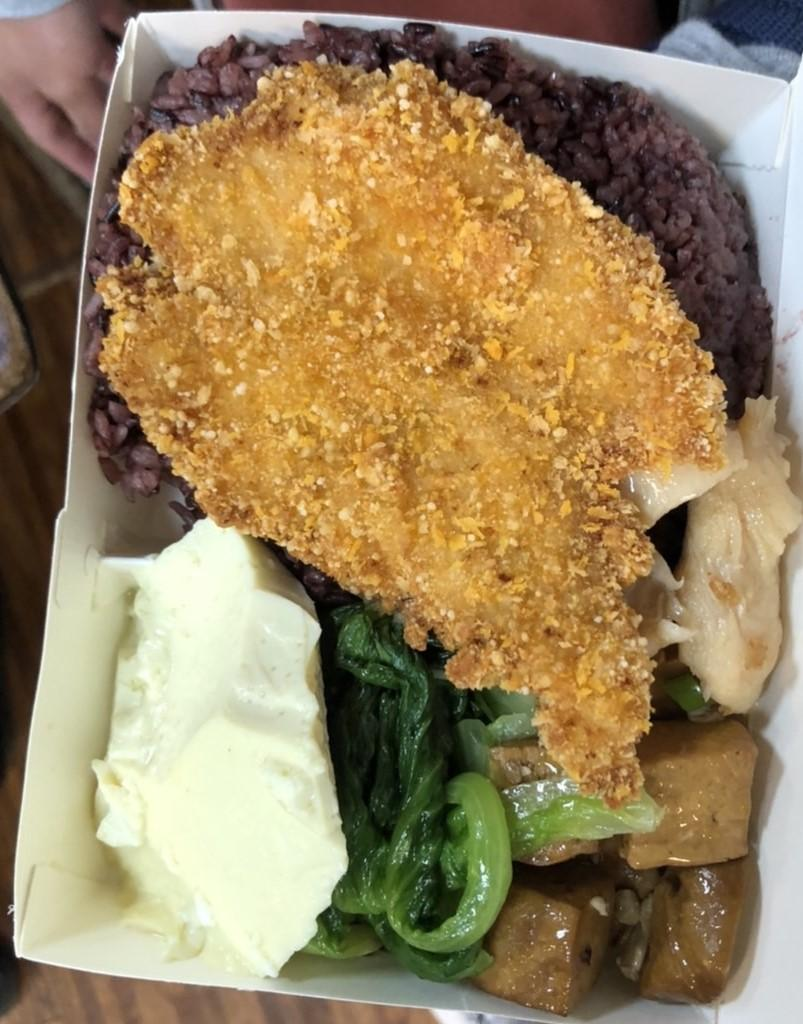big grilled chicken leg: (40, 0, 803, 1024)
braised fish: (110, 18, 770, 553)
braised fish fillet: (88, 523, 348, 973), (482, 701, 766, 1015), (336, 606, 510, 1001)
braised pork: (113, 53, 736, 801)
